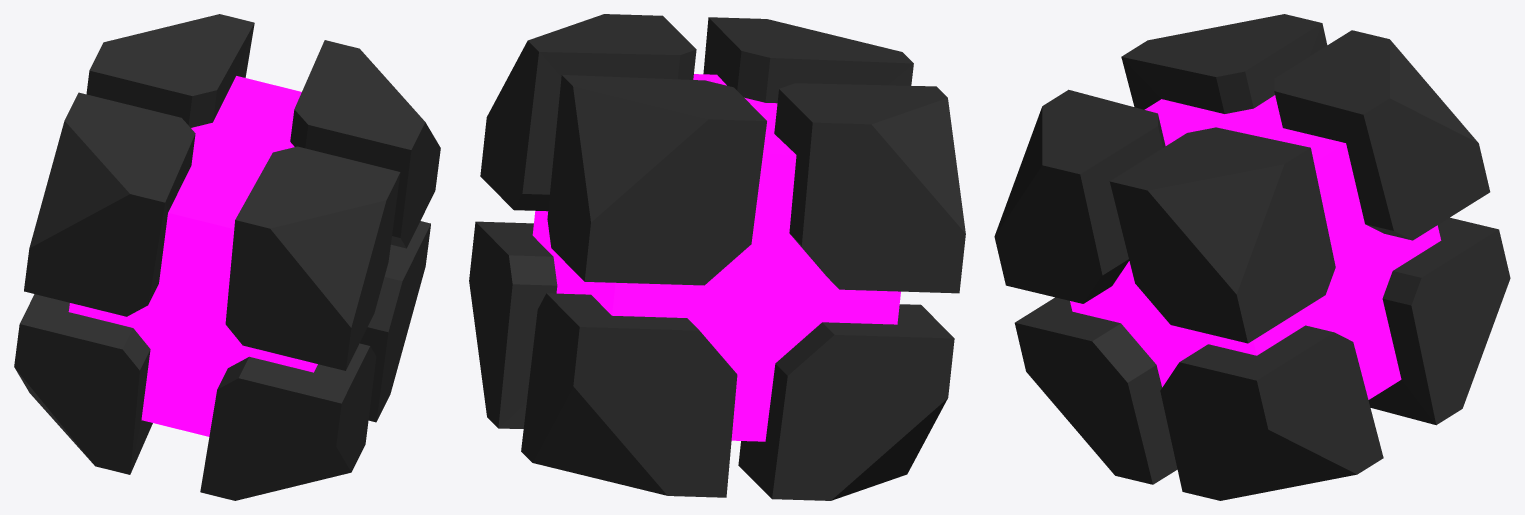
The model's file is electrical-pack.glb.
3 views of the same model, side by side, from view 1: azimuth 30°, elevation 25°; view 2: azimuth 150°, elevation 25°; view 3: azimuth 270°, elevation 25° (orthographic). The views are drawn at different scales.
Visible parts, largest first — view 1: Cube.021; view 2: Cube.021; view 3: Cube.021.
Boxes of the visible parts, <box> form: Cube.021: <box>14,14,440,500</box>; Cube.021: <box>469,14,965,500</box>; Cube.021: <box>994,14,1510,500</box>.
Size of the model in its own units: 4.8 by 4.04 by 5.
Materials: 1 (1 with a texture image).
